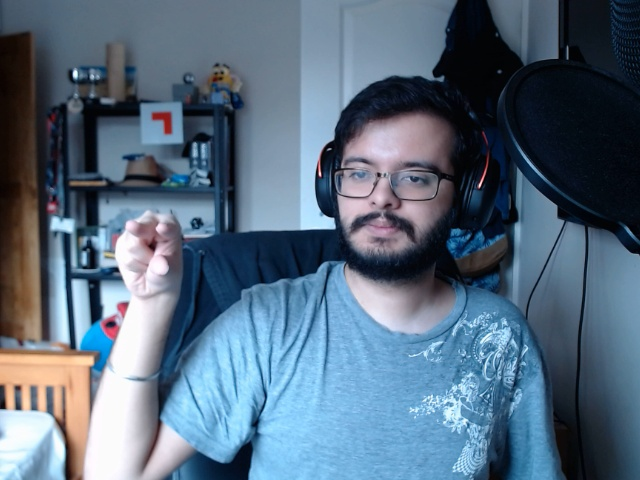No: (101, 197, 201, 310)
